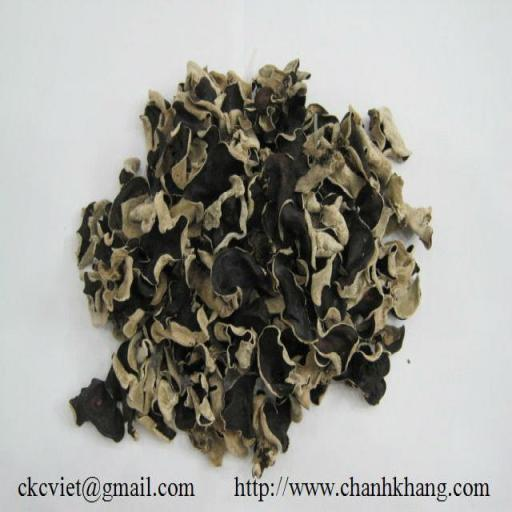Wood Ear Mushroom: (69, 58, 433, 480)
